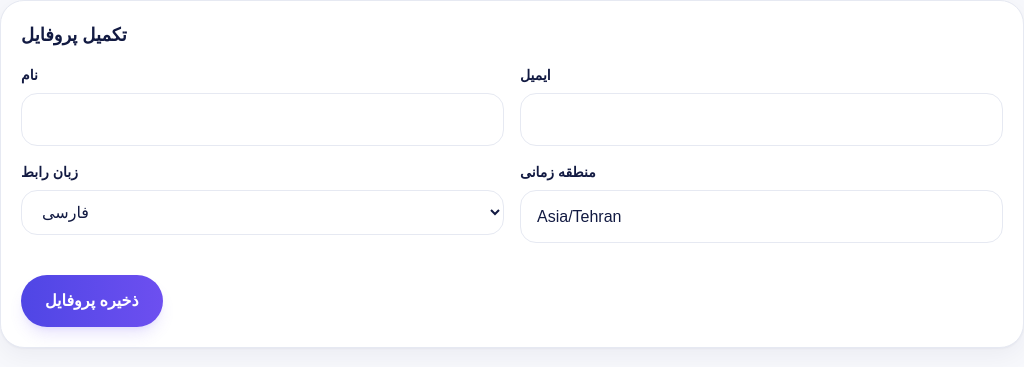
Scenario: PanelActions characterization › keeps the submit action disabled while a student mutation is pending
Type "Sara" into the field labelled "نام".
click(262, 120); type("Sara")  # box [21,93,504,146]
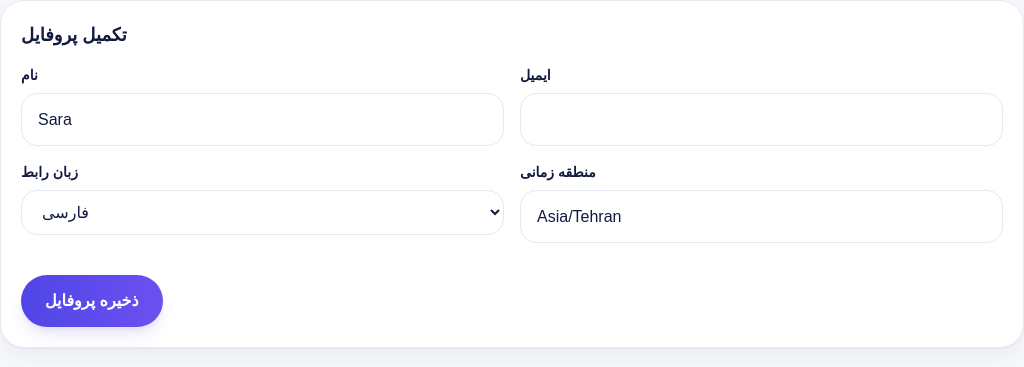
Submit the form
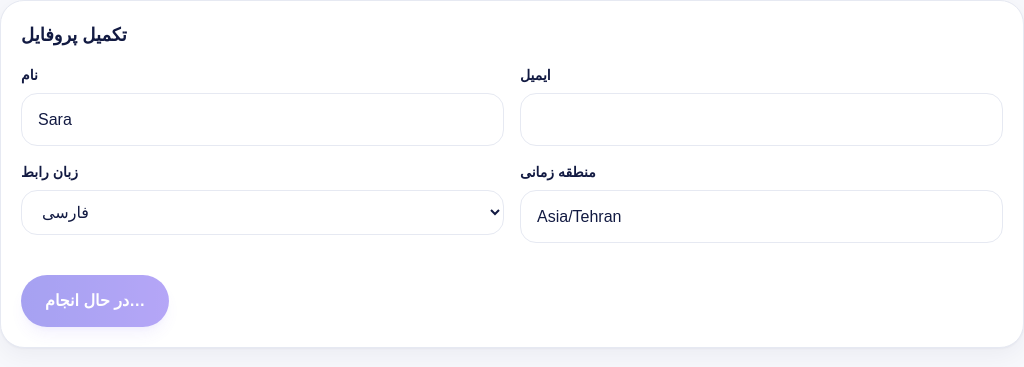
Now the button "در حال انجام…" is disabled, box [21,275,169,327]
